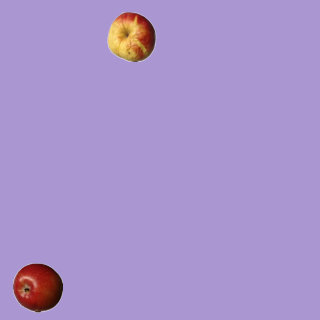Apple Braeburn: (12, 262, 62, 312)
Apple Red Yellow 1: (106, 11, 156, 61)
